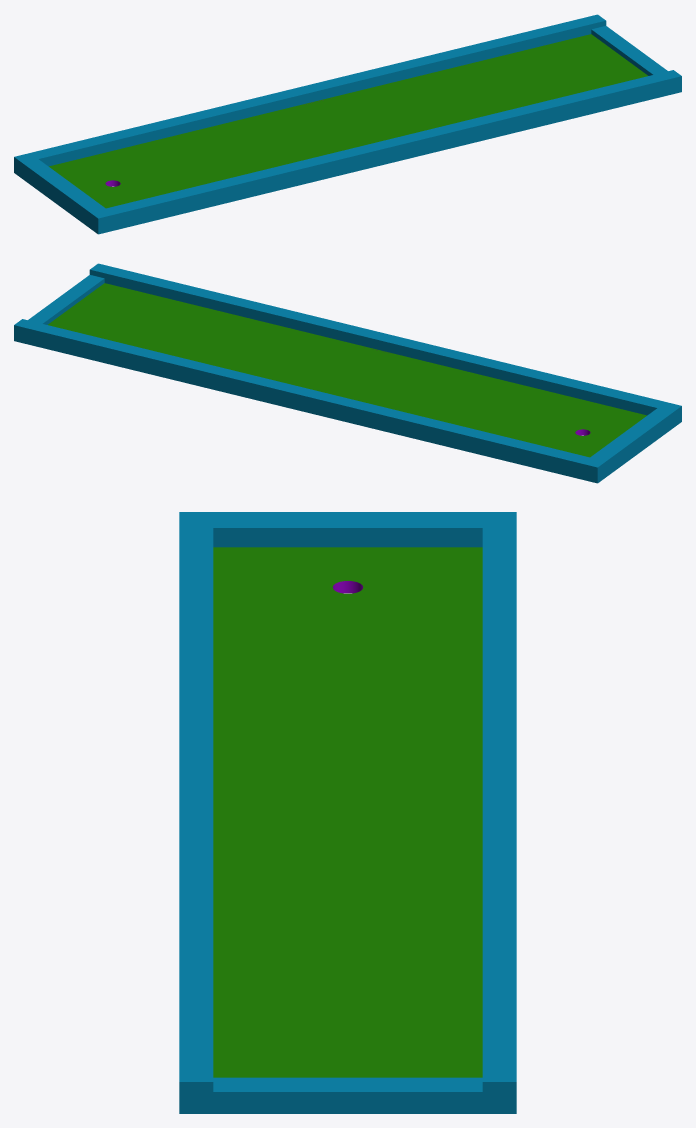
File: LevelTutorial.fbx
3 renders of one model, top to bottom at view 1: azimuth 30°, elevation 25°; view 2: azimuth 150°, elevation 25°; view 3: azimuth 270°, elevation 25°, orthographic. The views are drawn at different scales.
Parts seen in each view (by area): view 1: pCube4; view 2: pCube4; view 3: pCube4.
Boxes of the visible parts, box(x1,y1,x2,y2) form: pCube4: box(14, 14, 681, 234); pCube4: box(14, 263, 681, 483); pCube4: box(179, 512, 516, 1113).
Bounding box in the file's own units: 16 × 0.4184 × 4.
Materials: 1 (1 with a texture image).
